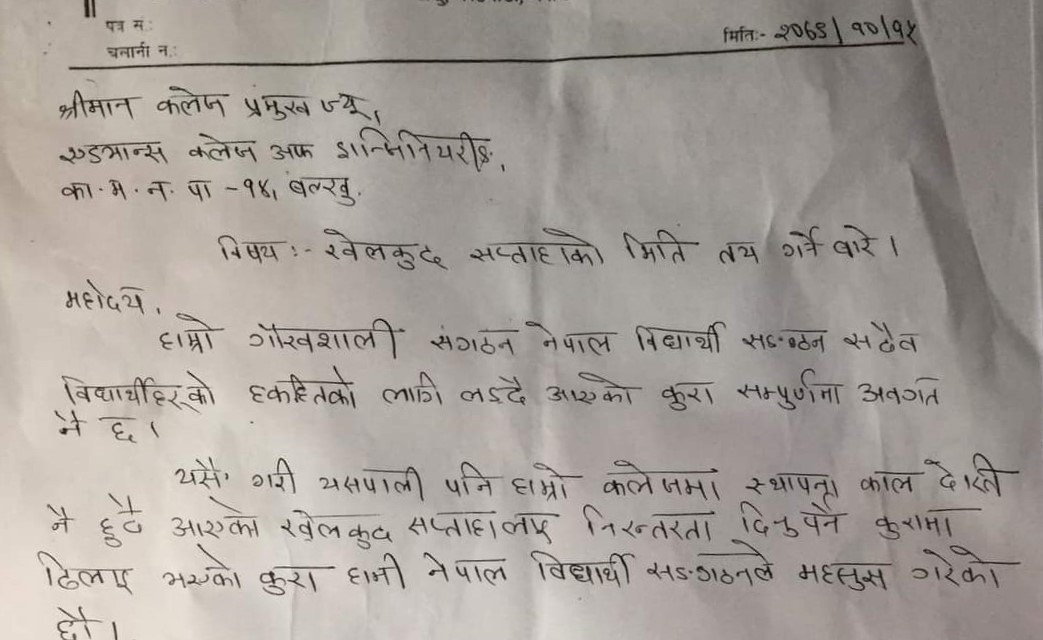text: (333, 121, 494, 172), (59, 365, 218, 412), (643, 539, 779, 592), (465, 225, 613, 273), (404, 503, 557, 547), (242, 315, 401, 356), (580, 497, 717, 544), (600, 456, 727, 505), (317, 224, 446, 272), (56, 173, 218, 210), (772, 9, 923, 47), (735, 365, 849, 415), (279, 506, 397, 554), (33, 544, 138, 597), (246, 364, 359, 411), (162, 495, 264, 546), (734, 498, 846, 540), (315, 459, 424, 502), (529, 547, 635, 590), (909, 548, 1007, 594), (537, 368, 639, 412), (160, 545, 244, 598), (921, 451, 1008, 500), (629, 317, 729, 357), (426, 322, 521, 362), (58, 278, 149, 319), (857, 372, 948, 412), (796, 560, 891, 598), (522, 319, 616, 357), (422, 548, 509, 589), (55, 140, 174, 169), (94, 490, 147, 552), (155, 311, 222, 360), (379, 365, 446, 414), (56, 88, 137, 128), (738, 323, 832, 357), (868, 507, 958, 542), (284, 171, 359, 212), (508, 460, 577, 504), (457, 370, 532, 410), (241, 88, 314, 129), (150, 84, 232, 120), (615, 227, 692, 265), (187, 128, 262, 167), (741, 468, 841, 497), (841, 320, 921, 356), (341, 555, 410, 595), (256, 565, 327, 600), (656, 377, 719, 415), (830, 222, 882, 268), (213, 234, 284, 267), (443, 459, 497, 501), (250, 455, 301, 498), (855, 465, 916, 497), (777, 222, 825, 262), (317, 92, 371, 125), (174, 456, 225, 490), (713, 239, 762, 269), (266, 140, 321, 165), (40, 500, 74, 537), (241, 171, 274, 205), (105, 417, 141, 447), (56, 409, 87, 443)
